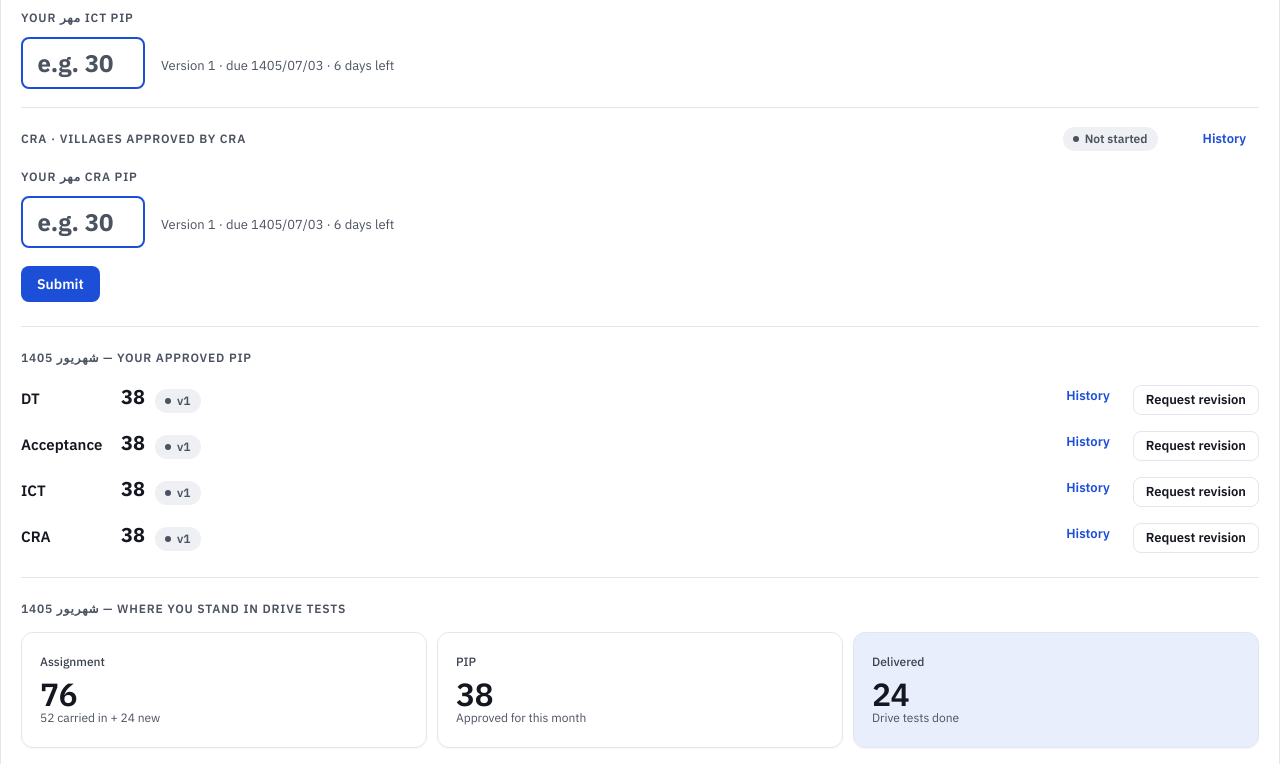
Test: a contractor filing next month › needs a comment when the reason is Other
The width and height of the screenshot is (1280, 764).
(page scrolled)
Step 1. Click the button "Request revision" in the row of "DT" → (1196, 400), box x1=1133 y1=385 x2=1259 y2=415
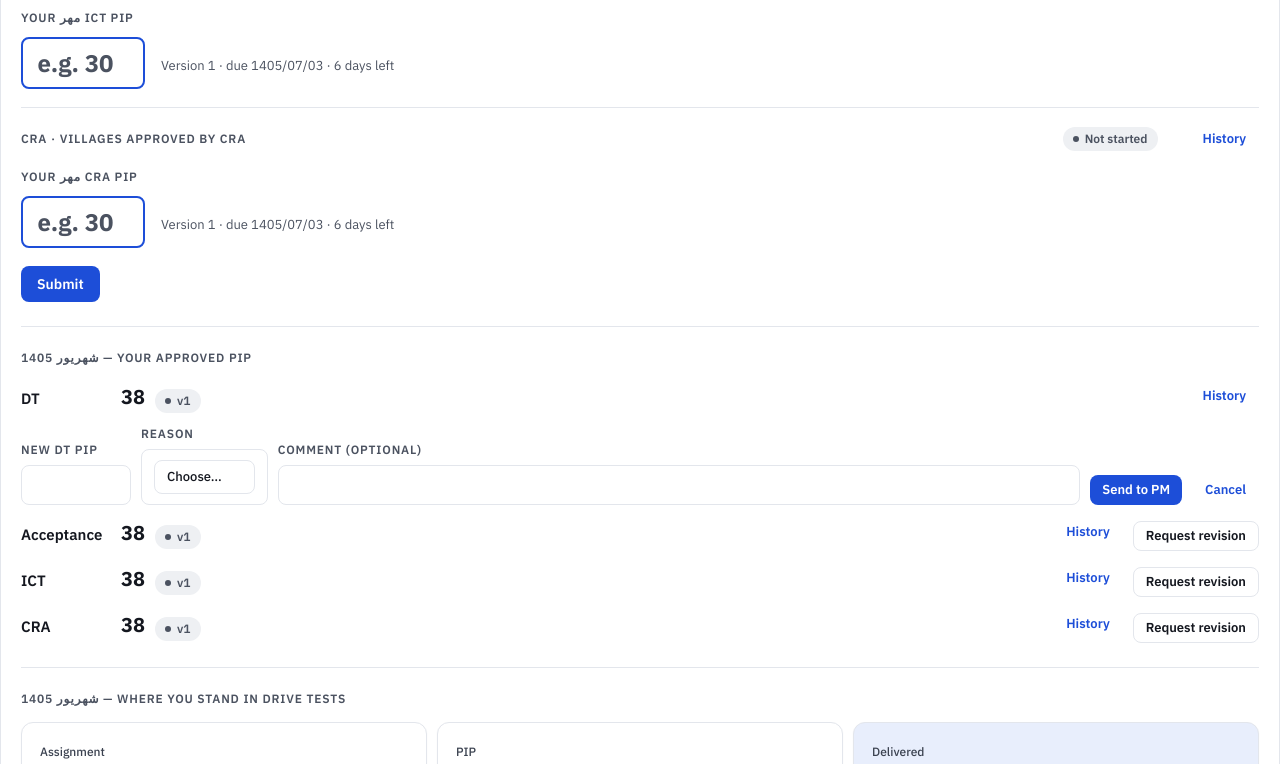
Step 2. Type "35" into the number field labelled "New DT PIP" → (76, 485), box x1=21 y1=465 x2=131 y2=505
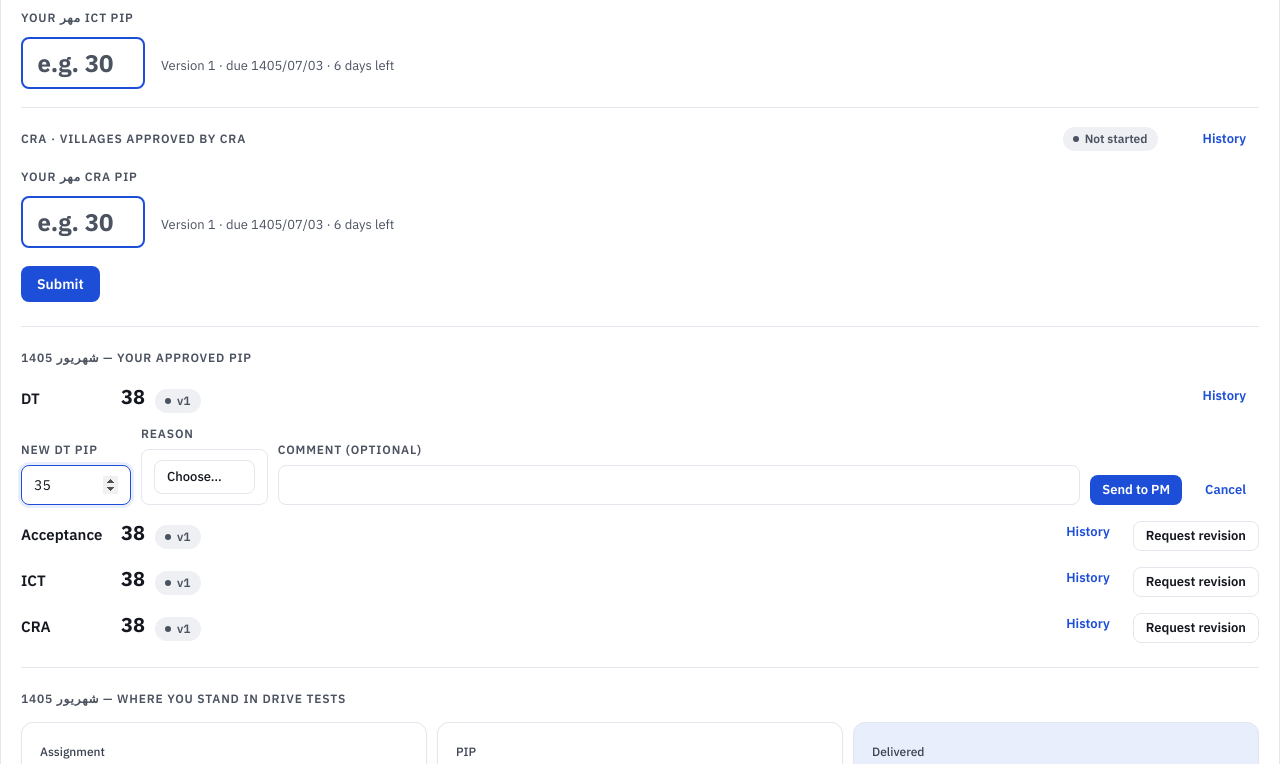
Step 3. Click the dropdown → (204, 477), box x1=154 y1=460 x2=255 y2=494
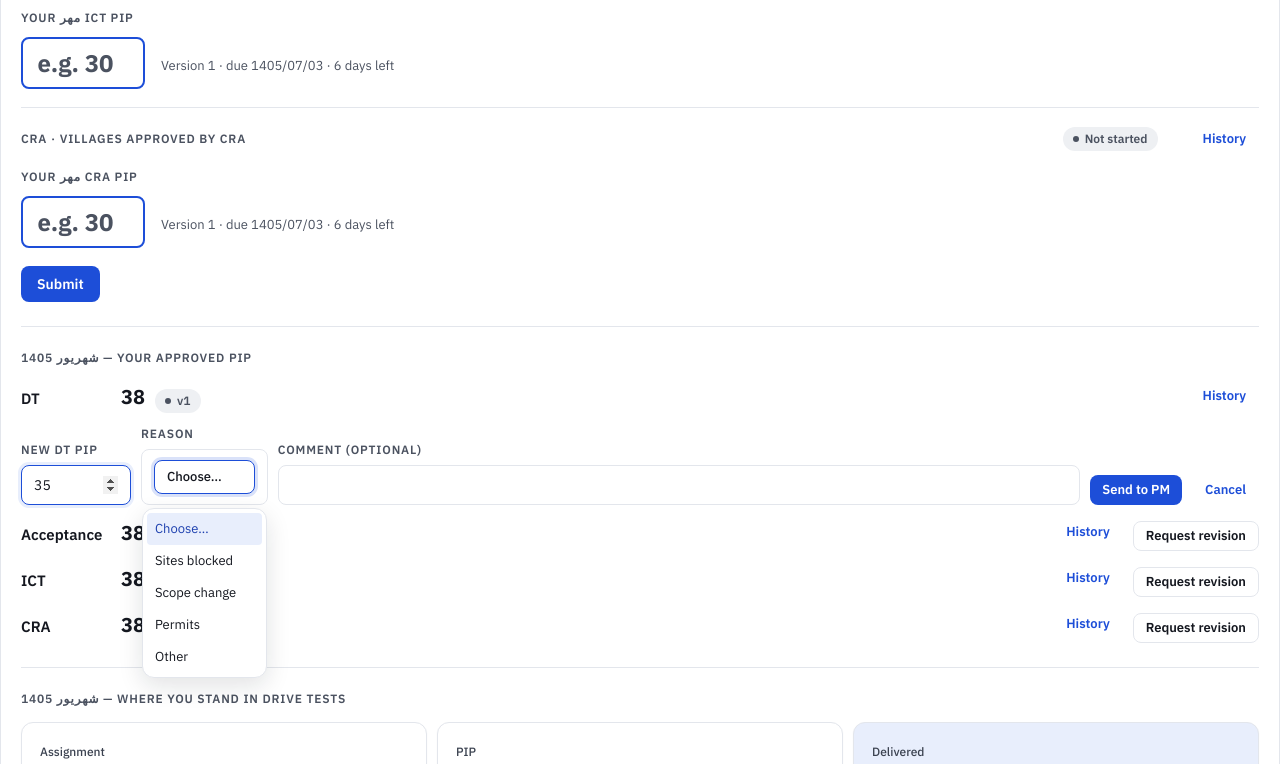
Step 4. Click the option "Other" → (172, 656), box x1=155 y1=648 x2=188 y2=665
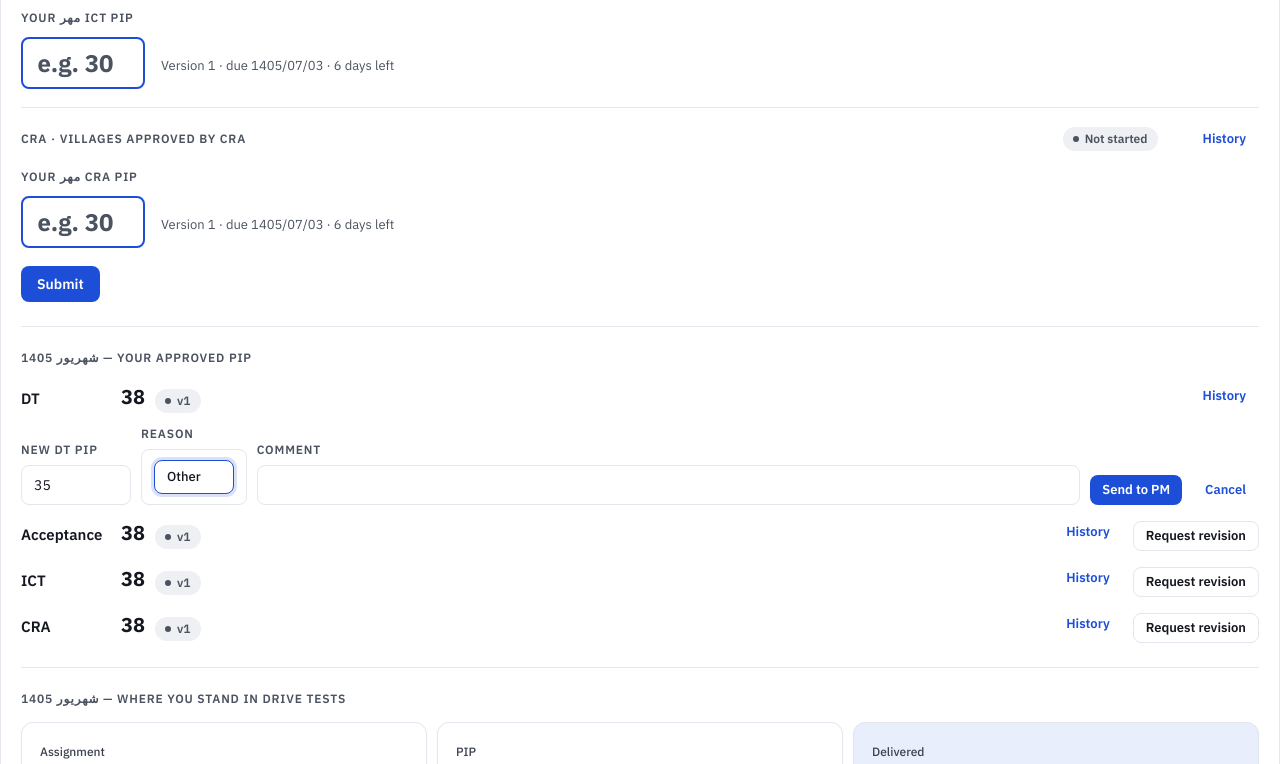
Step 5. Click the button "Send to PM" → (1136, 490), box x1=1090 y1=475 x2=1182 y2=505
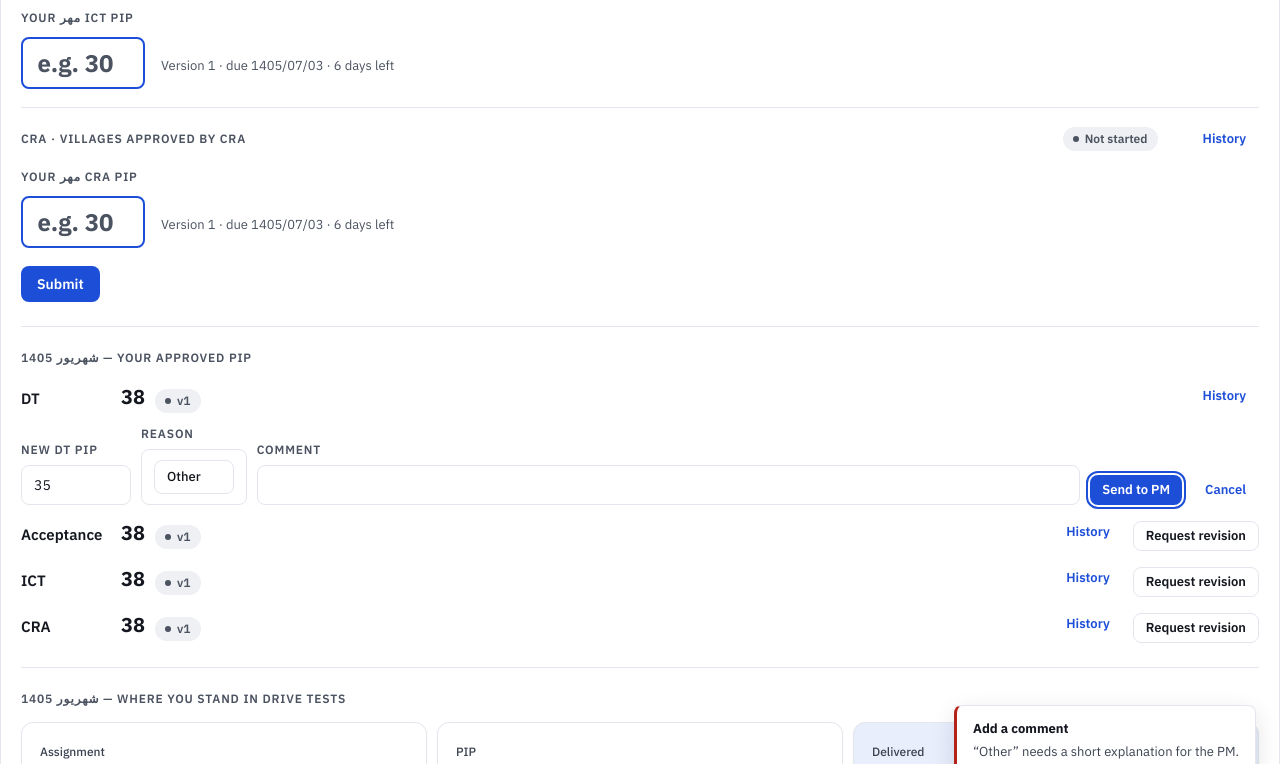
Expected: the text "Add a comment" is shown, x1=973 y1=720 x2=1068 y2=737
